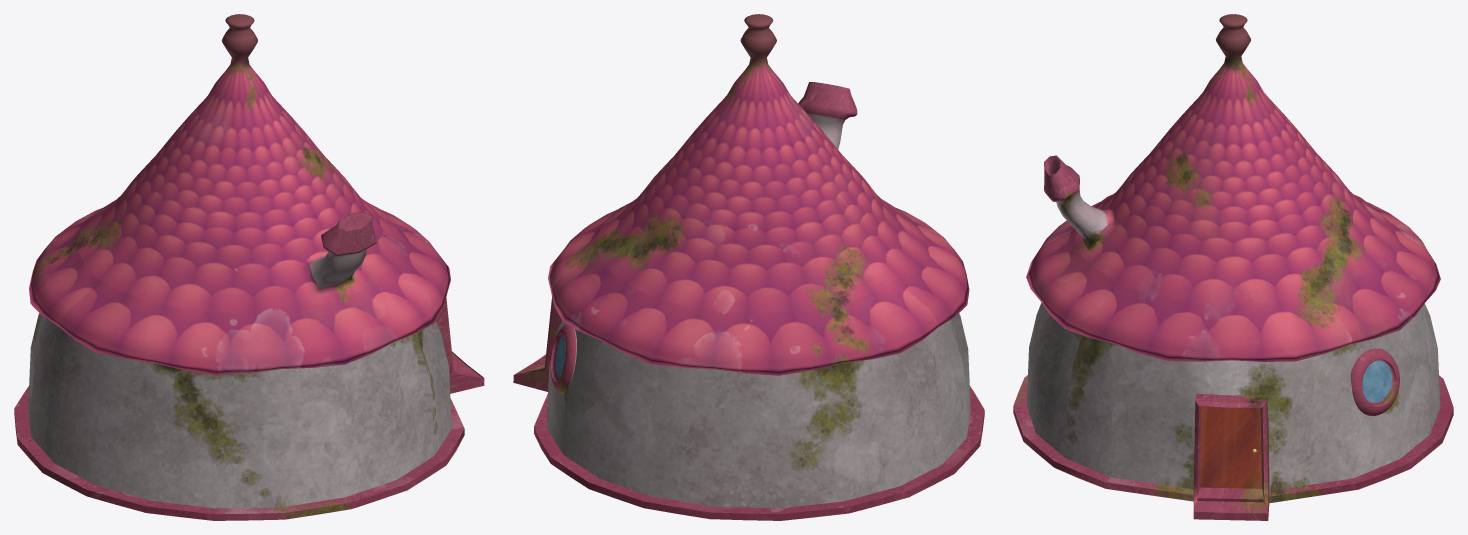
File: house2.glb
3 renders of one model, left to right at view 1: azimuth 30°, elevation 25°; view 2: azimuth 150°, elevation 25°; view 3: azimuth 270°, elevation 25°, orthographic. The views are drawn at different scales.
Parts seen in each view (by area): view 1: pSphere2; view 2: pSphere2; view 3: pSphere2.
Part boxes in pixels (bbox=[...]): pSphere2: bbox=[14, 14, 484, 520]; pSphere2: bbox=[513, 14, 984, 520]; pSphere2: bbox=[1013, 14, 1453, 520].
Size of the model in its own units: 7.03 by 6.46 by 6.51.
1 material, 1 textured.
